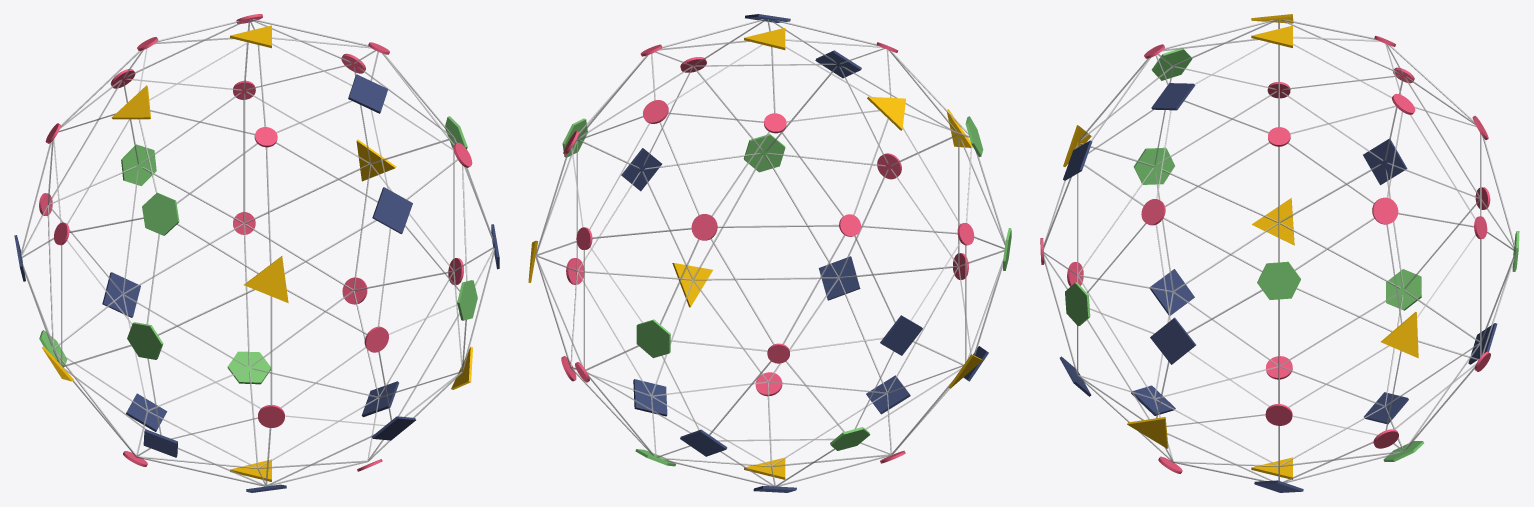
File: Helix-082423-darker.glb
The picture shows the model from 3 angles, left to right: view 1: azimuth 30°, elevation 25°; view 2: azimuth 150°, elevation 25°; view 3: azimuth 270°, elevation 25°; orthographic projection.
Visible parts, largest first — view 1: wireisosphereV4.001; view 2: wireisosphereV4.001; view 3: wireisosphereV4.001.
Part boxes in pixels (x1,y1,x2,y2): wireisosphereV4.001: (14,14,499,492); wireisosphereV4.001: (528,14,1011,492); wireisosphereV4.001: (1040,14,1519,492).
Bounding box in the file's own units: 3.43 × 3.46 × 3.46.
